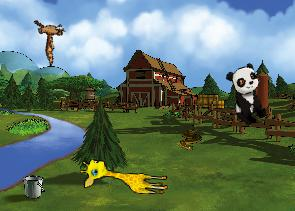eagle: (21, 8, 78, 67)
giraffe: (78, 157, 170, 195)
panda: (223, 62, 271, 128)
